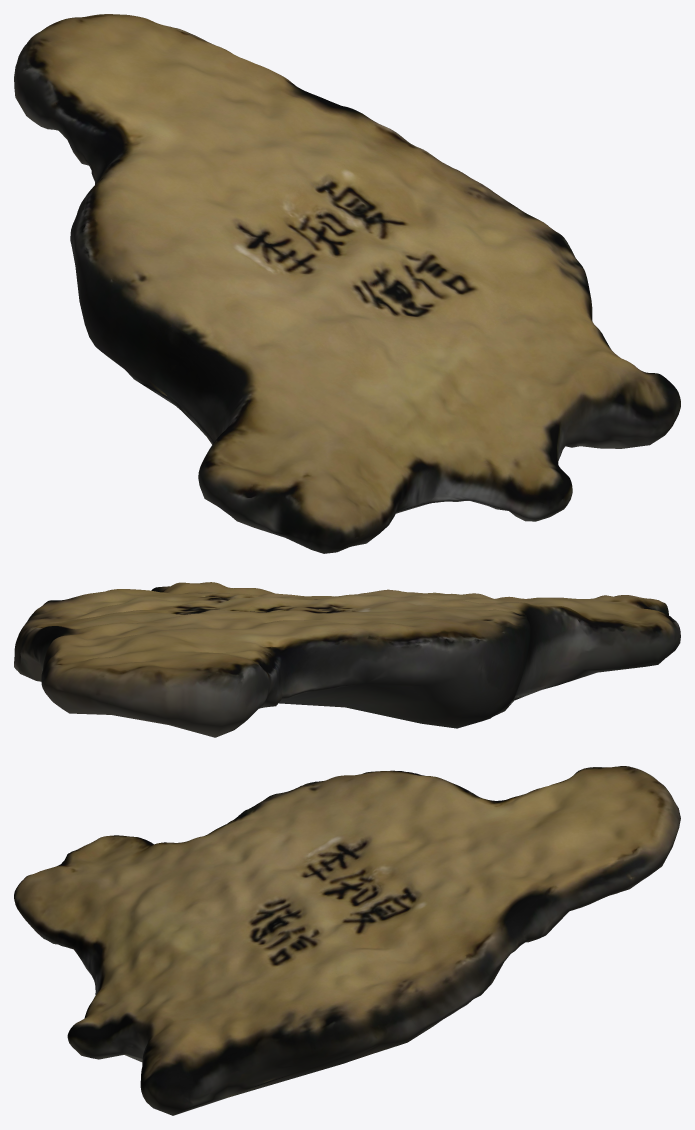
3 renders of one model, top to bottom at view 1: azimuth 30°, elevation 25°; view 2: azimuth 150°, elevation 25°; view 3: azimuth 270°, elevation 25°, orthographic. The views are drawn at different scales.
Size of the model in its own units: 0.5155 by 0.2659 by 0.7279.
1 material, 1 textured.
